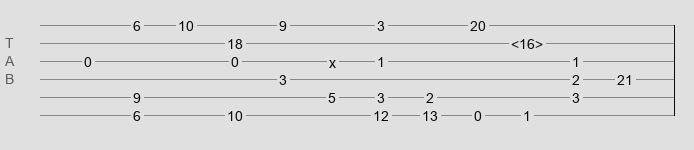0: (84, 54, 92, 64), (231, 54, 239, 64), (474, 108, 482, 118)
1: (377, 54, 385, 64), (523, 108, 531, 118), (572, 54, 580, 64)
10: (178, 18, 194, 28), (227, 108, 243, 118)
12: (373, 108, 389, 118)
13: (422, 108, 438, 118)
18: (227, 36, 243, 46)
2: (426, 90, 434, 100), (572, 72, 580, 82)
20: (470, 18, 486, 28)
21: (617, 72, 633, 82)
3: (279, 72, 287, 82), (377, 18, 385, 28), (377, 90, 385, 100), (572, 90, 580, 100)
5: (328, 90, 336, 100)
6: (133, 108, 141, 118), (133, 18, 141, 28)
9: (133, 90, 141, 100), (279, 18, 287, 28)
harmonic: (511, 36, 543, 46)
x: (329, 55, 336, 63)
